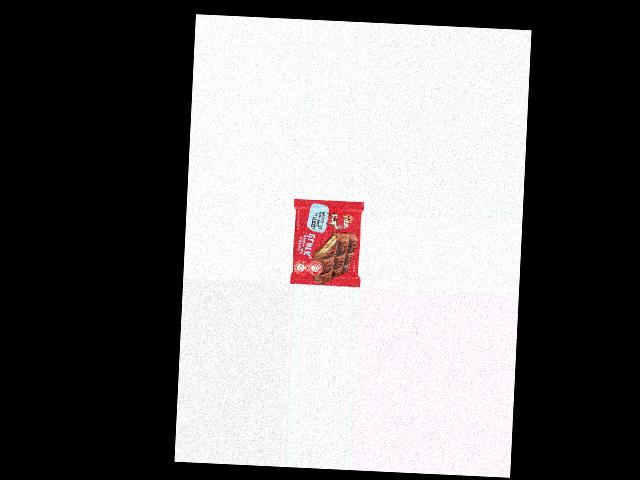chocolate: (289, 201, 363, 286)
